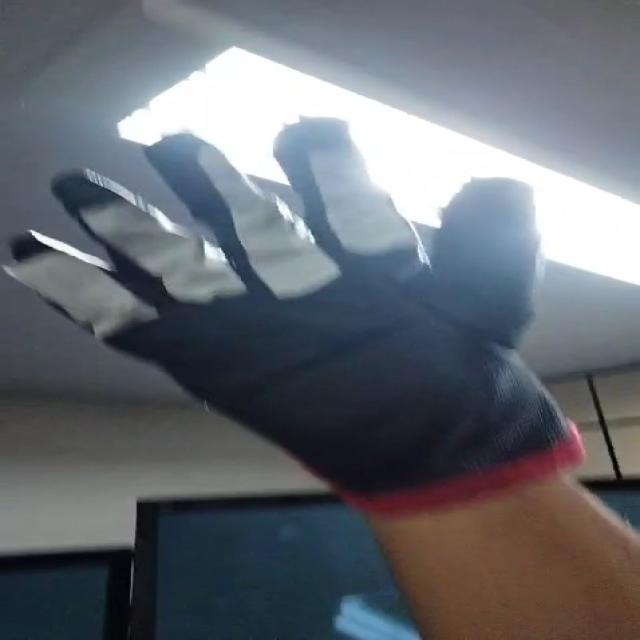Gloves: (3, 109, 549, 516)
